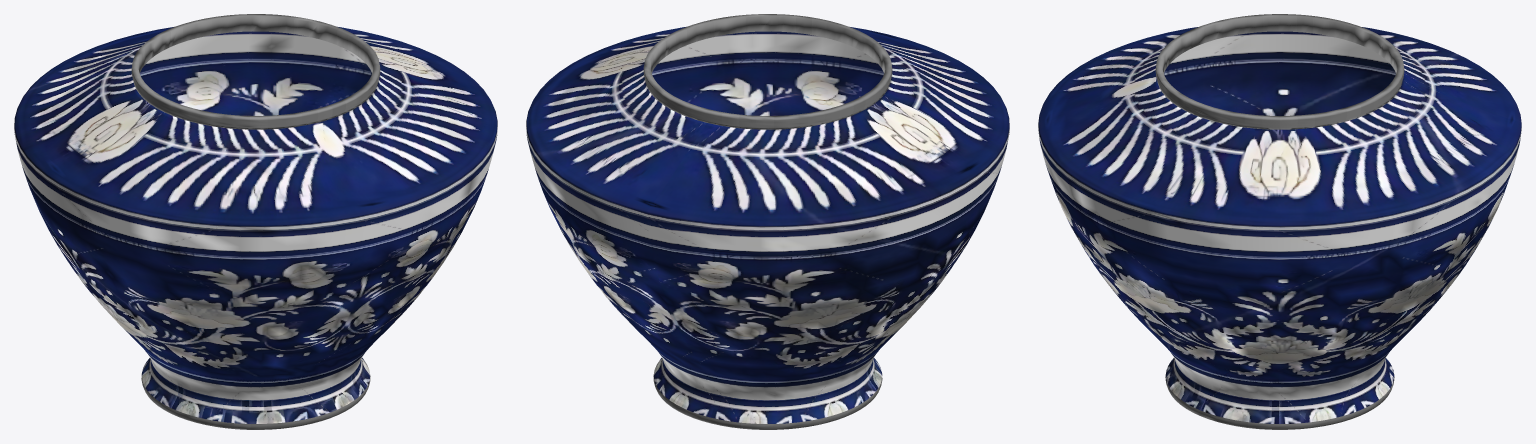
3 views of the same model, side by side, from view 1: azimuth 30°, elevation 25°; view 2: azimuth 150°, elevation 25°; view 3: azimuth 270°, elevation 25° (orthographic).
Visible parts, largest first — view 1: TC3, top.001, bottom; view 2: TC3, top.001, bottom; view 3: TC3, top.001, bottom.
Boxes of the visible parts, <box> form: TC3: <box>14,26,497,423</box>; top.001: <box>131,14,380,129</box>; bottom: <box>141,373,370,429</box>; TC3: <box>526,26,1009,423</box>; top.001: <box>643,14,892,129</box>; bottom: <box>653,373,882,429</box>; TC3: <box>1038,27,1521,423</box>; top.001: <box>1155,14,1404,129</box>; bottom: <box>1165,374,1394,429</box>.
Bounding box in the file's own units: 0.2348 × 0.1692 × 0.2348.
Materials: 2 (2 with a texture image).
